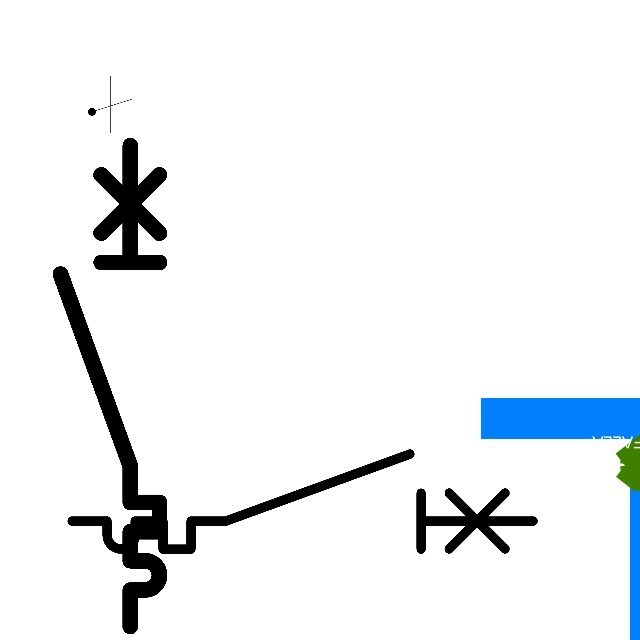interruptor_termomagnetico: (48, 133, 172, 639), (60, 442, 545, 561)
